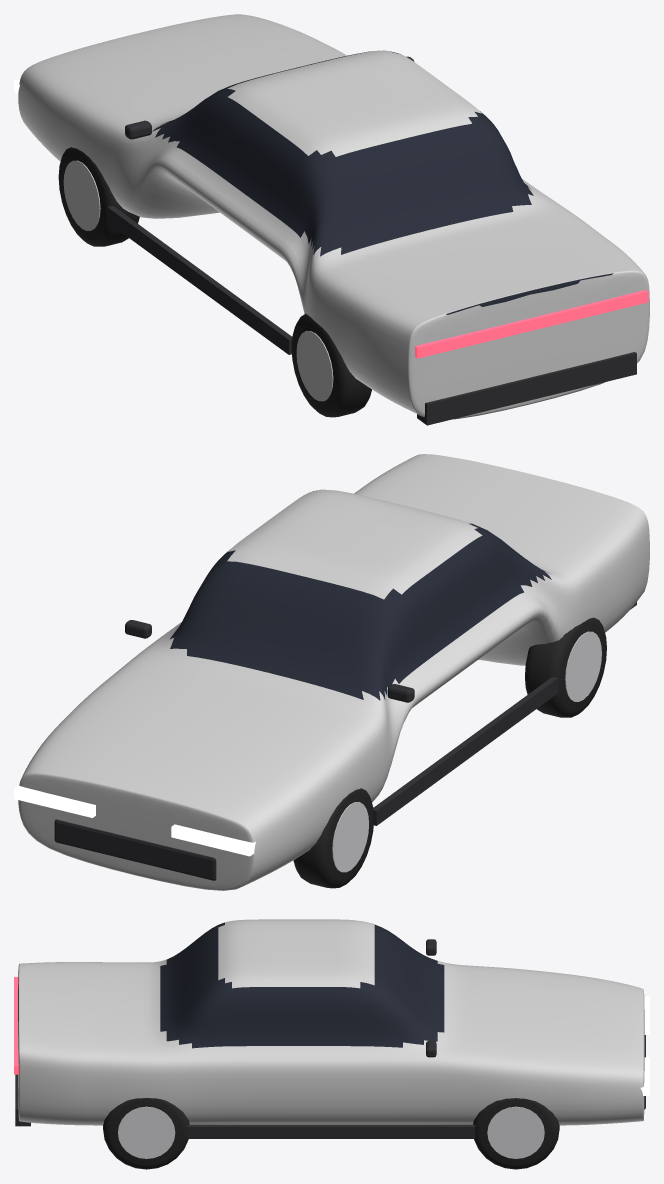
Rendered from car_sedan.glb.
3 views of the same model, one above another, from view 1: azimuth 30°, elevation 25°; view 2: azimuth 150°, elevation 25°; view 3: azimuth 270°, elevation 25° (orthographic). The views are drawn at different scales.
Visible parts, largest first — view 1: paint, glass, trim, wheel_RL, wheel_FL, lamp_r; view 2: paint, glass, trim, wheel_RL, wheel_FL, lamp_f; view 3: paint, glass, trim, wheel_RR, wheel_FR, lamp_f, lamp_r.
Boxes of the visible parts, x1,y1,x2,y2 form: paint: (18, 14, 649, 419); glass: (152, 51, 613, 314); trim: (107, 56, 636, 425); wheel_RL: (291, 313, 371, 417); wheel_FL: (58, 147, 139, 246); lamp_r: (414, 290, 648, 358); paint: (18, 454, 649, 890); glass: (170, 490, 551, 700); trim: (54, 602, 636, 880); wheel_RL: (525, 617, 606, 717); wheel_FL: (293, 788, 373, 888); lamp_f: (14, 785, 255, 856); paint: (18, 919, 644, 1125); glass: (18, 922, 444, 1048); trim: (15, 939, 645, 1138); wheel_RR: (103, 1098, 189, 1169); wheel_FR: (473, 1098, 559, 1169); lamp_f: (640, 996, 649, 1095); lamp_r: (14, 977, 18, 1074).
Size of the model in its own units: 1.98 by 1.45 by 4.82.
